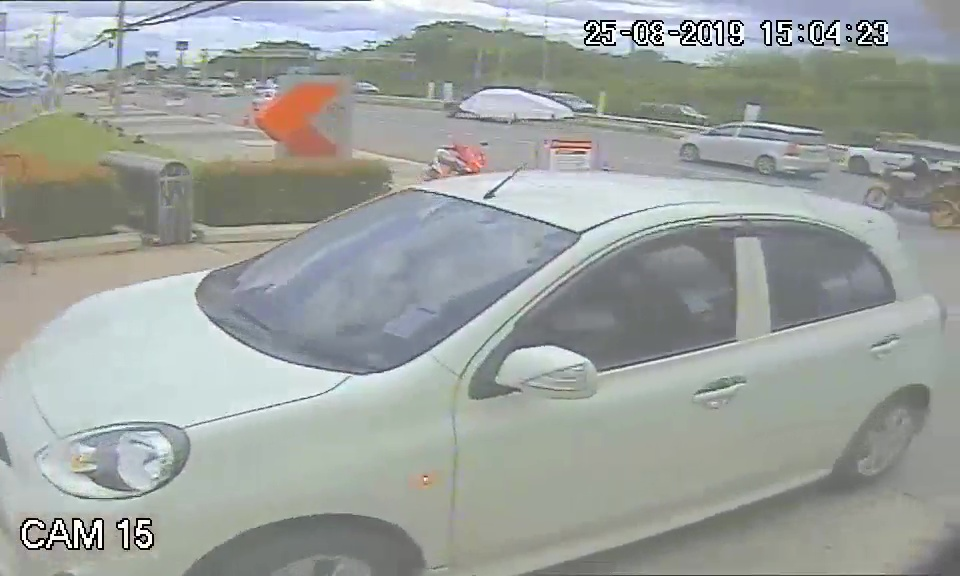sedan: (3, 164, 945, 560)
